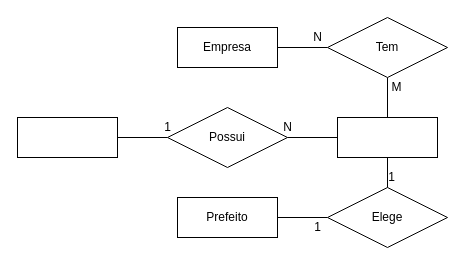
This 465x265 diagram has some shape labels left out. The shapes that lost their labels are listed below. From the top down, each one's centre as x and y in pixels, then its label:
(67,137): Estado
(387,137): Cidade
